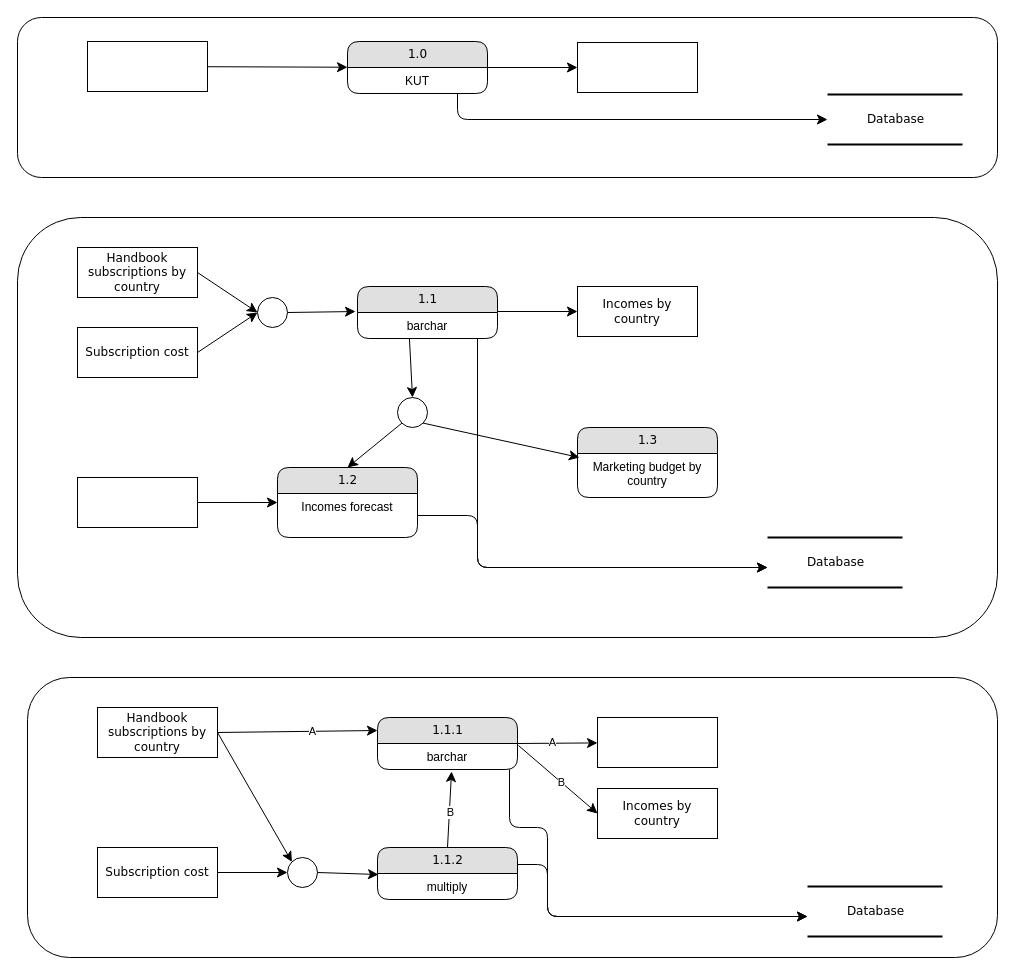
Image size: 1015x975. Some labels were removed from this diagram. The shapes that lost their labels are listed below. From the top down, each one's centre as x and y in pixels, then its label:
At (x=147, y=66): "Handbook subscriptions".
At (x=637, y=67): "Incomes forecast by country".
At (x=137, y=502): "Incomes by country in previous years".
At (x=657, y=742): "Subscriptions by country".
